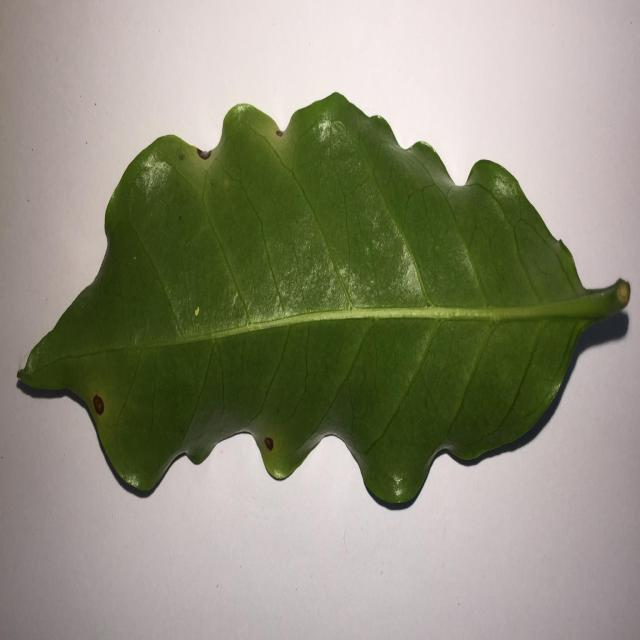Enfermedad-Mancha-de-hierro: (15, 94, 632, 513)
